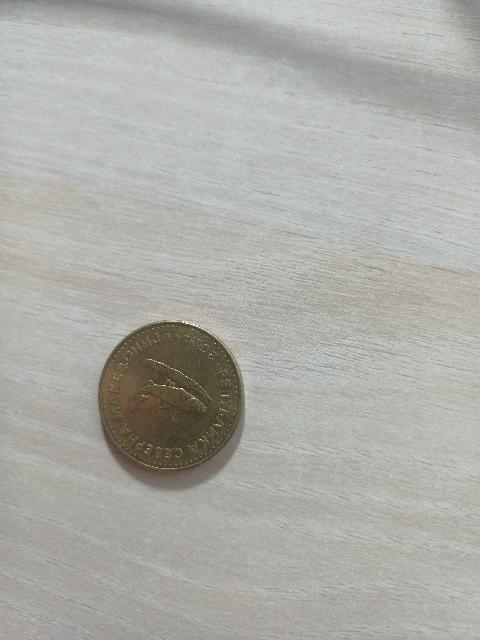2_coin: (99, 322, 243, 469)
